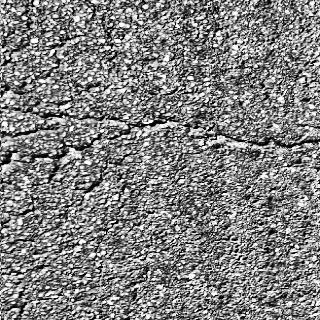alligator-crack: (10, 22, 105, 294)
crack: (138, 113, 320, 152)
